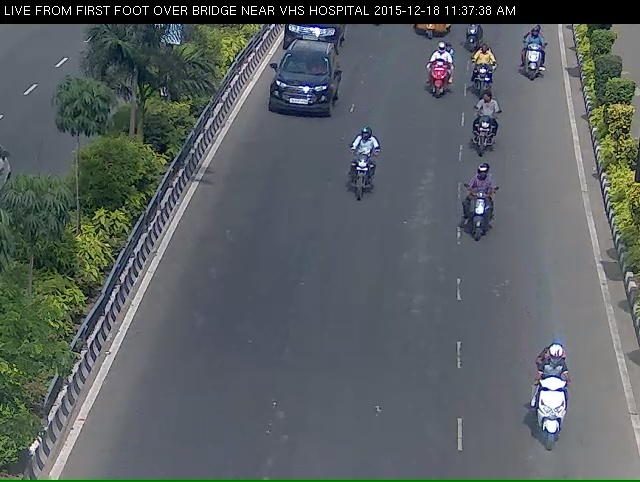Auto: (408, 24, 456, 49)
Car: (265, 49, 339, 133), (271, 18, 354, 59), (271, 18, 351, 59)
Person: (515, 333, 584, 482), (336, 145, 381, 232), (466, 178, 504, 265), (468, 51, 508, 107), (471, 108, 500, 182), (515, 40, 547, 99), (424, 49, 453, 114)
